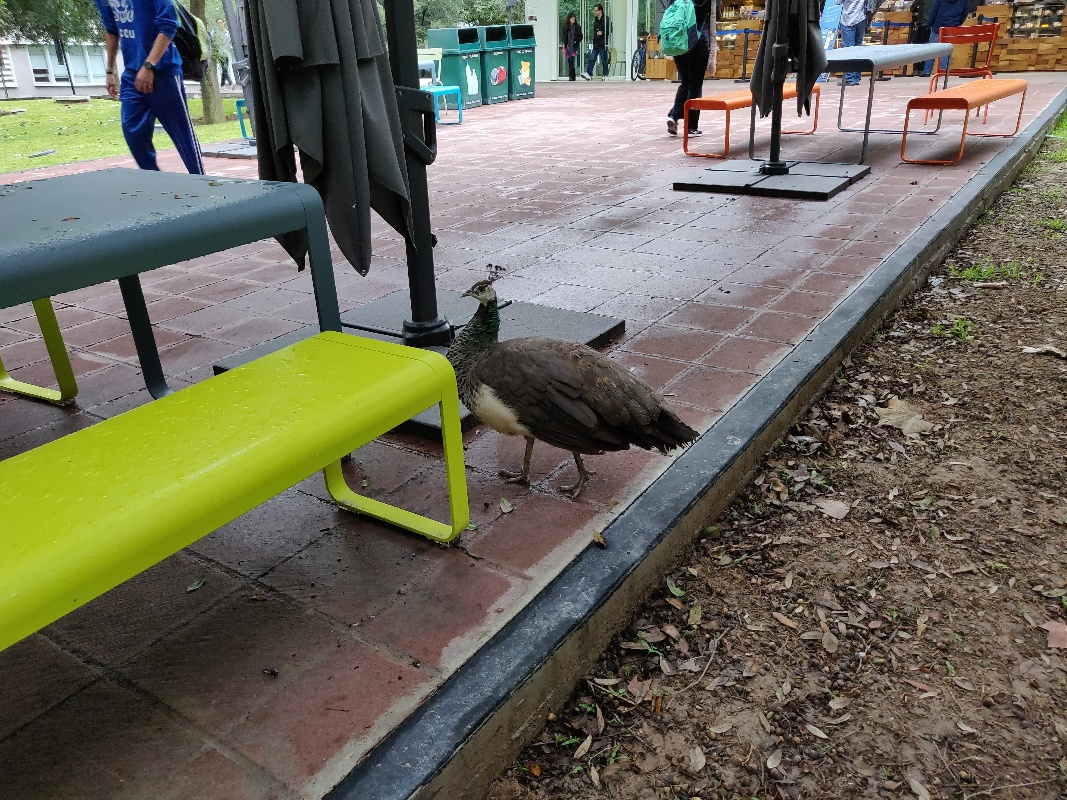pavoreal: (454, 263, 692, 495)
